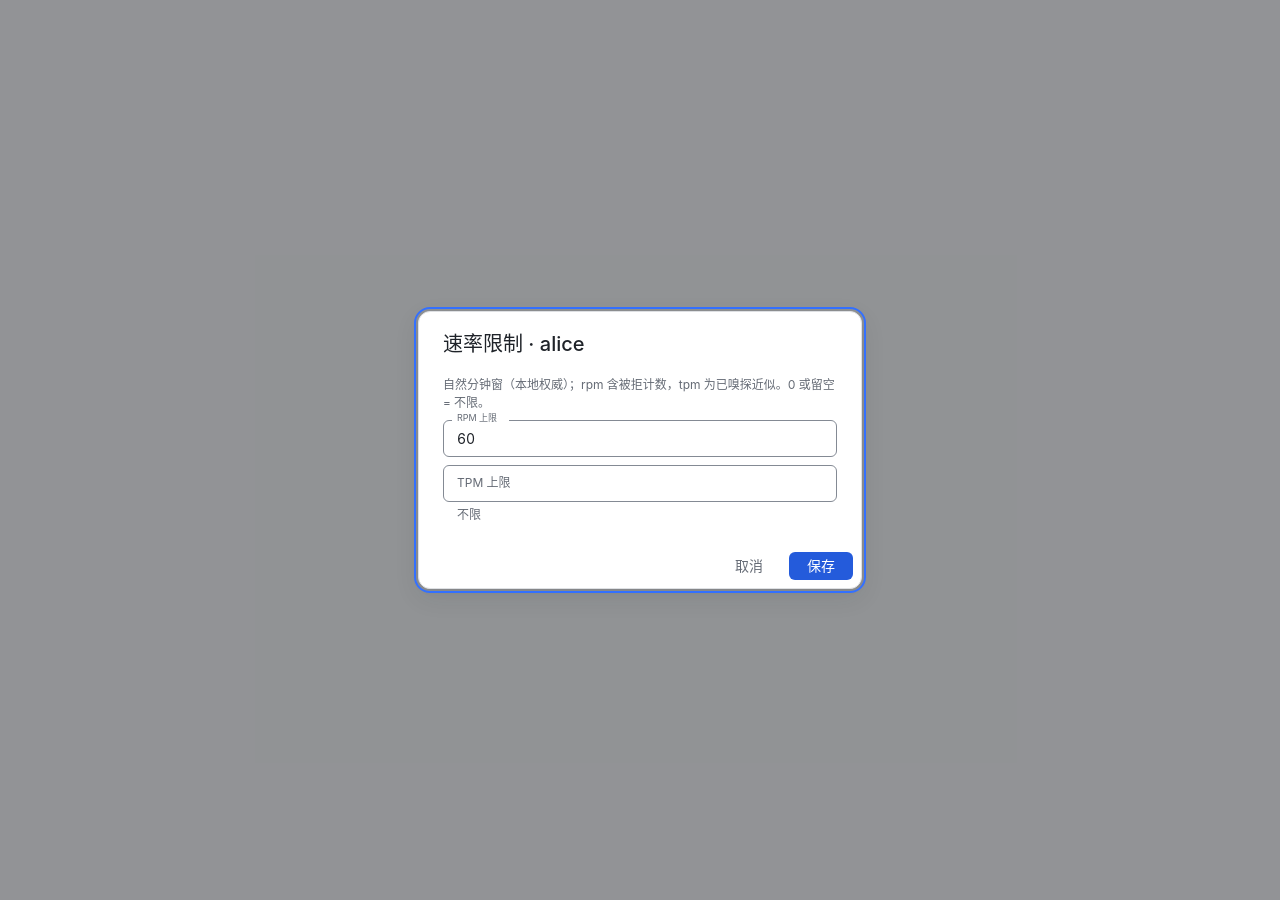
Test: RateLimitDialog（速率限制） › 服务端失败时错误面透出，对话框不关闭
The image size is (1280, 900).
Click the button "保存": click(821, 566) [789, 552, 853, 580]
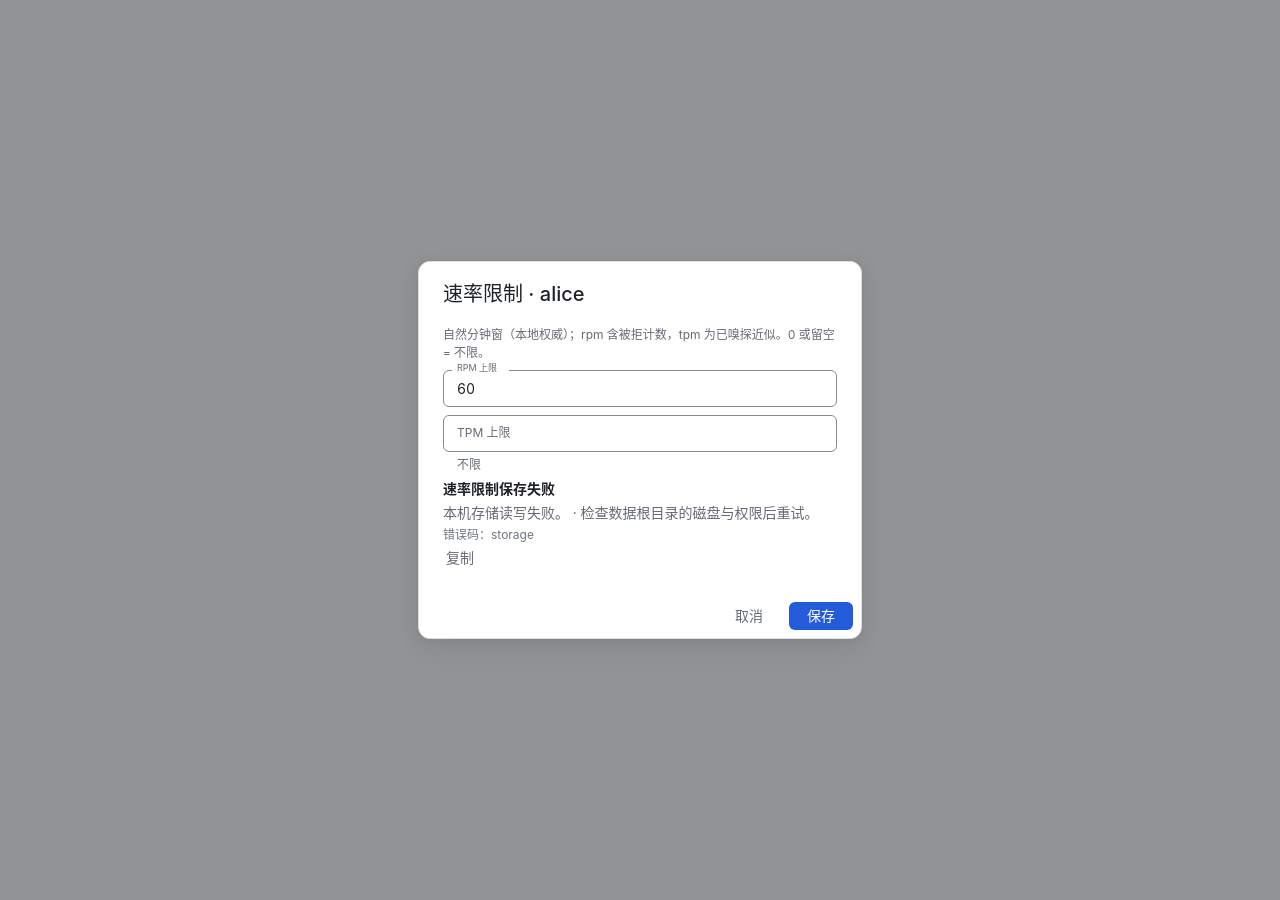
Now the message shows "速率限制保存失败", box [443, 480, 555, 497]
